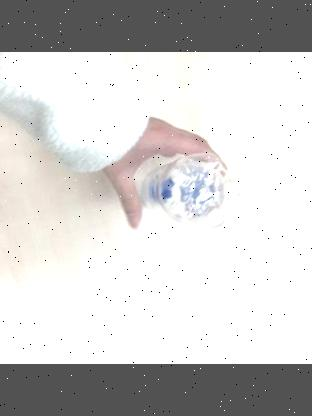Plastic Bottle: (130, 152, 246, 230)
